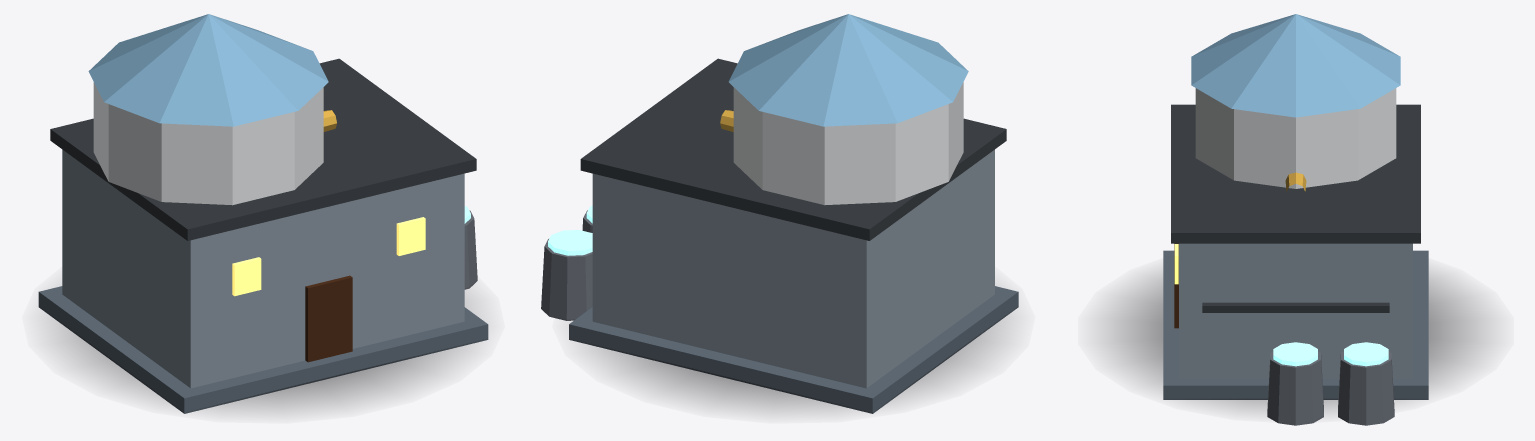
The model's file is lab_t1.glb.
The picture shows the model from 3 angles, left to right: view 1: azimuth 30°, elevation 25°; view 2: azimuth 150°, elevation 25°; view 3: azimuth 270°, elevation 25°; orthographic projection. The views are drawn at different scales.
Parts seen in each view (by area): view 1: lab_t1; view 2: lab_t1; view 3: lab_t1.
Boxes of the visible parts, x1,y1,x2,y2 form: lab_t1: [38, 14, 488, 413]; lab_t1: [541, 14, 1018, 413]; lab_t1: [1105, 14, 1486, 425].
Size of the model in its own units: 5.8 by 4.14 by 5.74.
